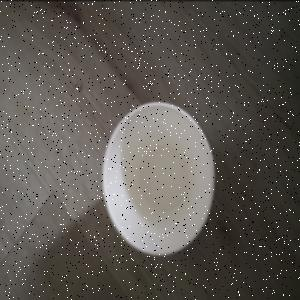Cup: (102, 100, 218, 258)
